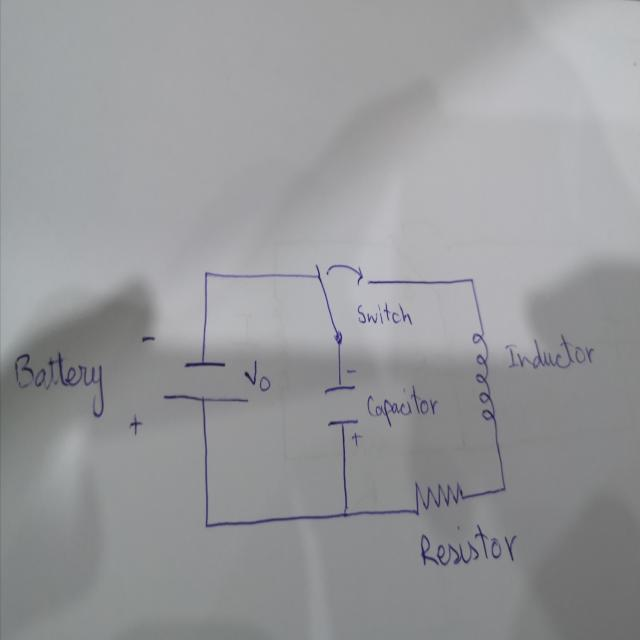capacitor: (321, 366, 364, 447)
inductor: (471, 329, 495, 423)
junction: (496, 478, 510, 498), (200, 264, 212, 285), (340, 502, 352, 522), (202, 516, 212, 532), (466, 274, 476, 288)
resistor: (413, 478, 465, 517)
source: (160, 355, 252, 413)
switch: (313, 252, 372, 348)
text: (12, 347, 108, 420), (418, 521, 522, 570), (504, 331, 595, 374), (365, 380, 440, 430), (354, 298, 416, 326), (242, 356, 273, 395)
